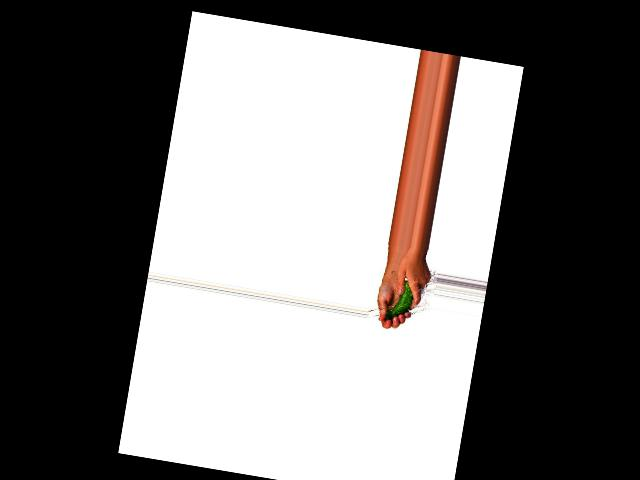cucumber: (384, 277, 416, 324)
